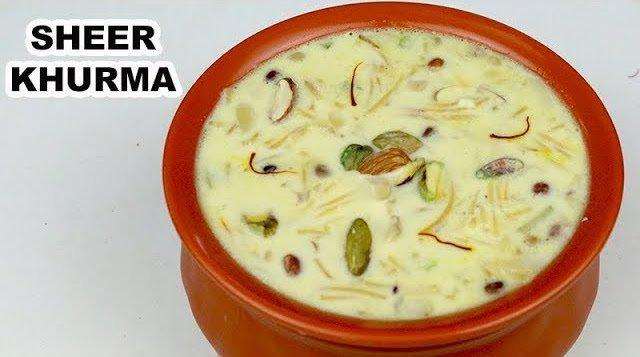Sheer Khurma: (186, 30, 619, 357)
